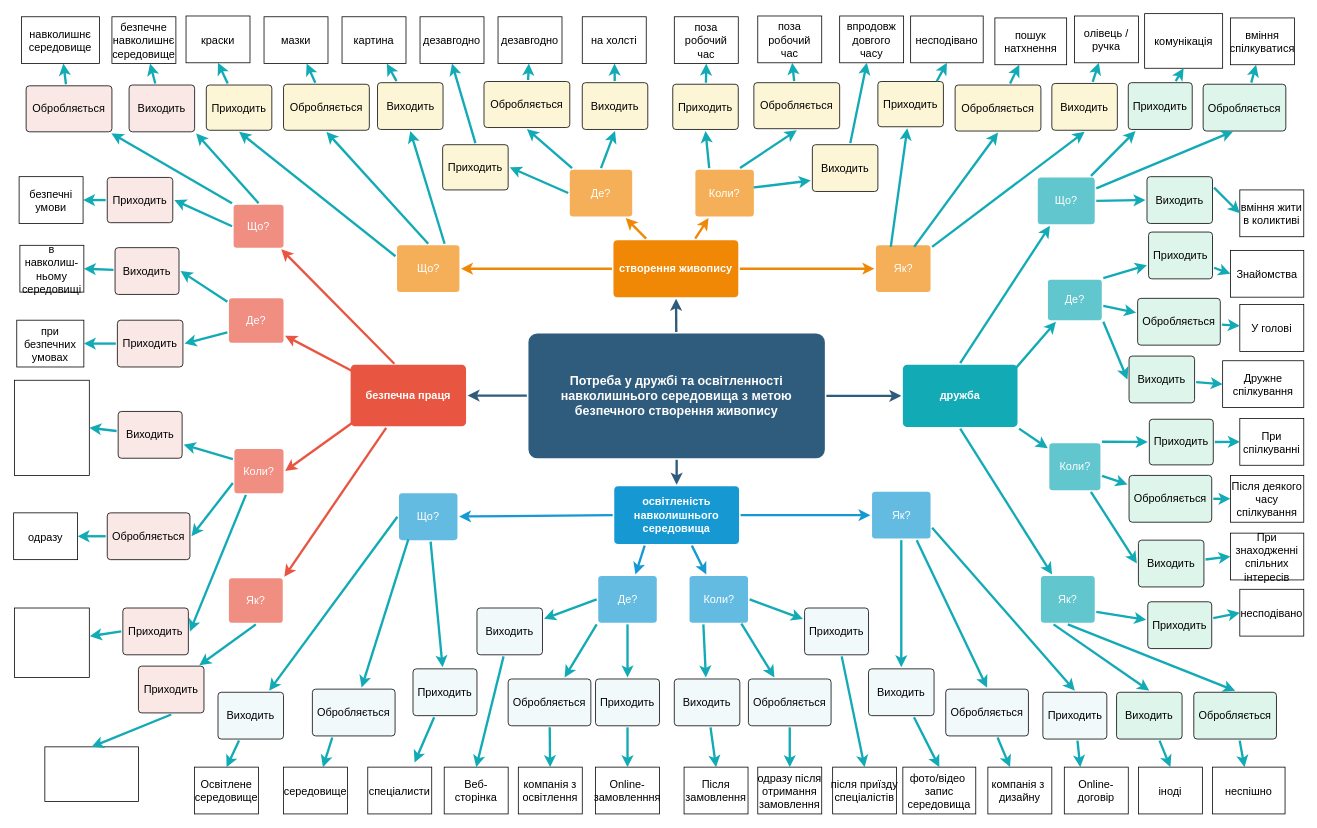
The diagram is 1317 pixels wide and 828 high, and some of its shapes have lost their labels. Each missing label, with the centre of its shape:
в освітленому середовищі та дружніх умовах: (51,642)
При виконанні всіх умов безпеки: (91,773)
при наявності безпеки, освітленності середовища, дружби: (51,427)
